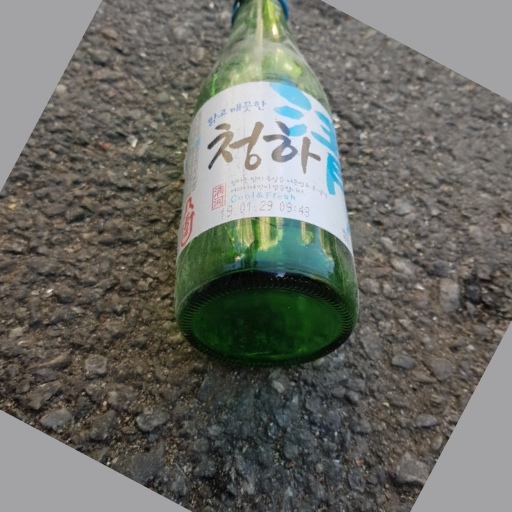Glass_0: (170, 1, 361, 366)
